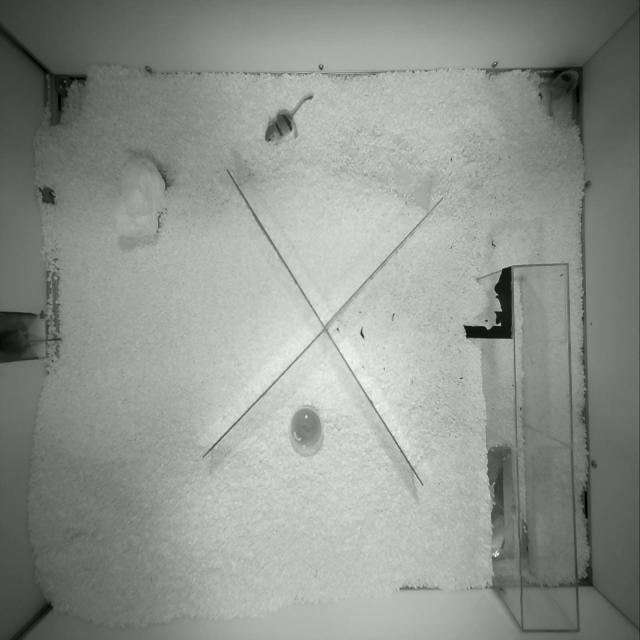pup_h_stripe: (265, 93, 313, 144)
pup_spotted: (545, 69, 579, 116)
